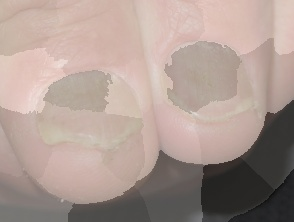Nail_psoriasis: (17, 47, 157, 176), (154, 28, 268, 136)
